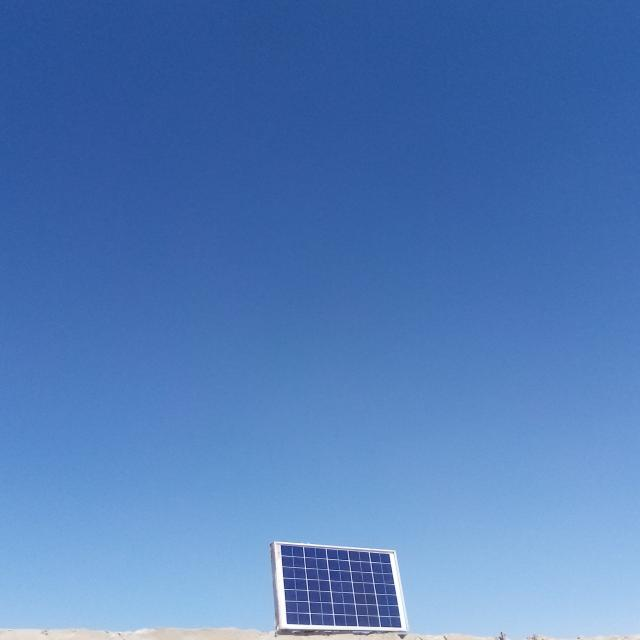no faulty: (275, 542, 409, 630)
